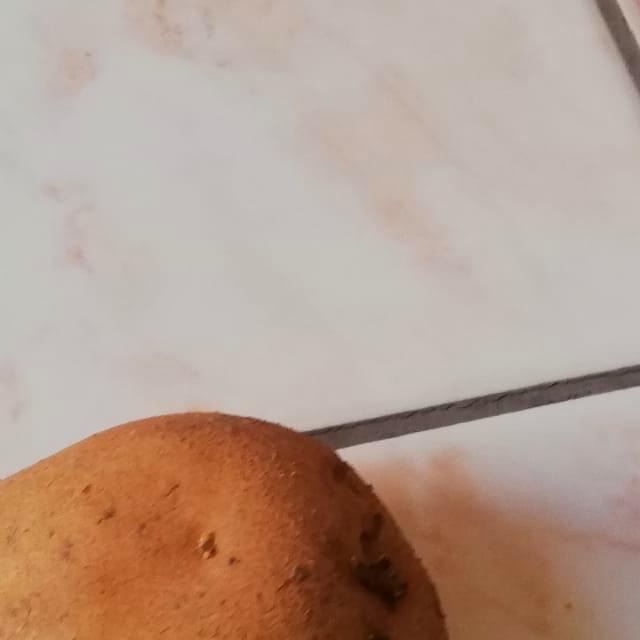potato: (0, 389, 488, 640)
